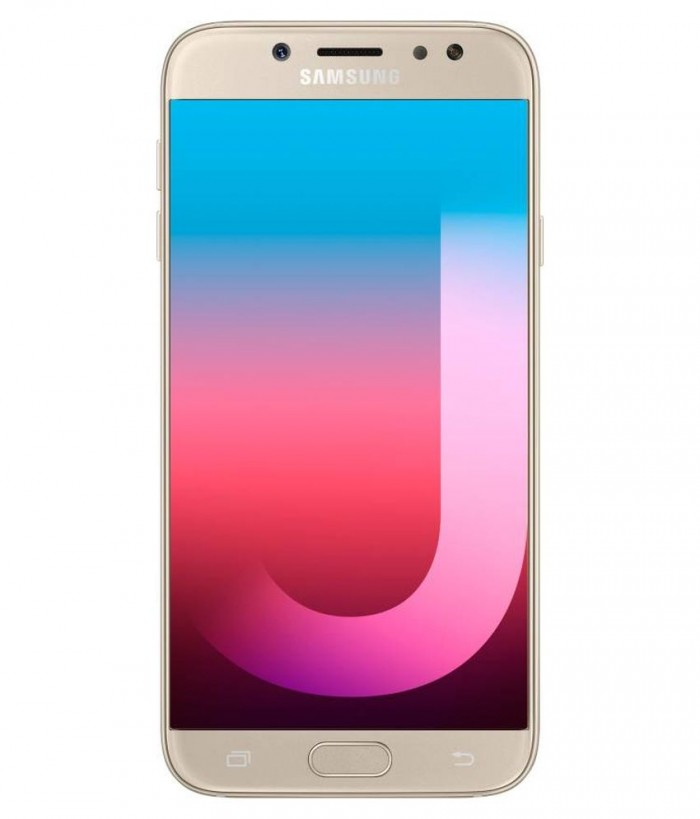Handphone: (149, 16, 550, 805)
